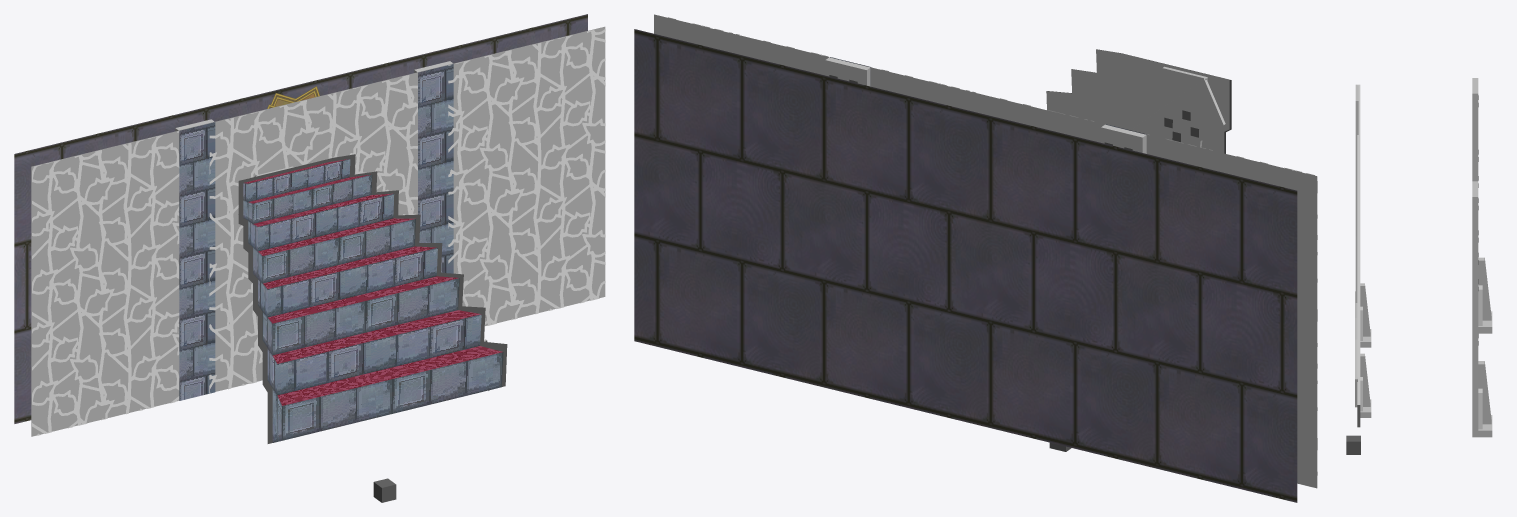
File: stg_08_5_bake.dae
The picture shows the model from 3 angles, left to right: view 1: azimuth 30°, elevation 25°; view 2: azimuth 150°, elevation 25°; view 3: azimuth 270°, elevation 25°; orthographic projection. The views are drawn at different scales.
Visible parts, largest first — view 1: polySurface149_q00046, polySurface98_q00001_part1, polySurface143_q00020, polySurface144_q00021, C_kabe, polySurface98_q00001_part0, polySurface98_q00002; view 2: C_kabe, polySurface149_q00046, polySurface98_q00019, polySurface1253_q00011, polySurface150_q00047, polySurface1254_q00012; view 3: polySurface150_q00047, polySurface1253_q00011, polySurface1254_q00012, pCube24_q00026, pCube24_q00029, pCube24_q00018, pCube24_q00015, polySurface1250_q00010, pCube161_q00000, pCube23_q00028, pCube22_q00027, pCube23_q00025 (+1 smaller).
Part boxes in pixels (bbox=[...]): polySurface149_q00046: bbox=[31, 26, 605, 436]; polySurface98_q00001_part1: bbox=[243, 159, 503, 442]; polySurface143_q00020: bbox=[32, 29, 605, 435]; polySurface144_q00021: bbox=[179, 64, 453, 400]; C_kabe: bbox=[14, 14, 587, 423]; polySurface98_q00001_part0: bbox=[244, 159, 502, 405]; polySurface98_q00002: bbox=[238, 154, 507, 443]; C_kabe: bbox=[634, 29, 1297, 502]; polySurface149_q00046: bbox=[654, 14, 1317, 488]; polySurface98_q00019: bbox=[1046, 49, 1229, 153]; polySurface1253_q00011: bbox=[1131, 77, 1225, 145]; polySurface150_q00047: bbox=[825, 57, 1146, 153]; polySurface1254_q00012: bbox=[1159, 66, 1207, 147]; polySurface150_q00047: bbox=[1472, 78, 1478, 437]; polySurface1253_q00011: bbox=[1357, 84, 1360, 427]; polySurface1254_q00012: bbox=[1355, 84, 1358, 302]; pCube24_q00026: bbox=[1478, 257, 1491, 320]; pCube24_q00029: bbox=[1478, 361, 1491, 424]; pCube24_q00018: bbox=[1360, 283, 1370, 336]; pCube24_q00015: bbox=[1360, 353, 1370, 406]; polySurface1250_q00010: bbox=[1355, 291, 1357, 407]; pCube161_q00000: bbox=[1346, 435, 1360, 454]; pCube23_q00028: bbox=[1478, 388, 1482, 429]; pCube22_q00027: bbox=[1478, 415, 1492, 437]; pCube23_q00025: bbox=[1478, 285, 1482, 325].
Size of the model in its own units: 40 by 23.51 by 10.61.
